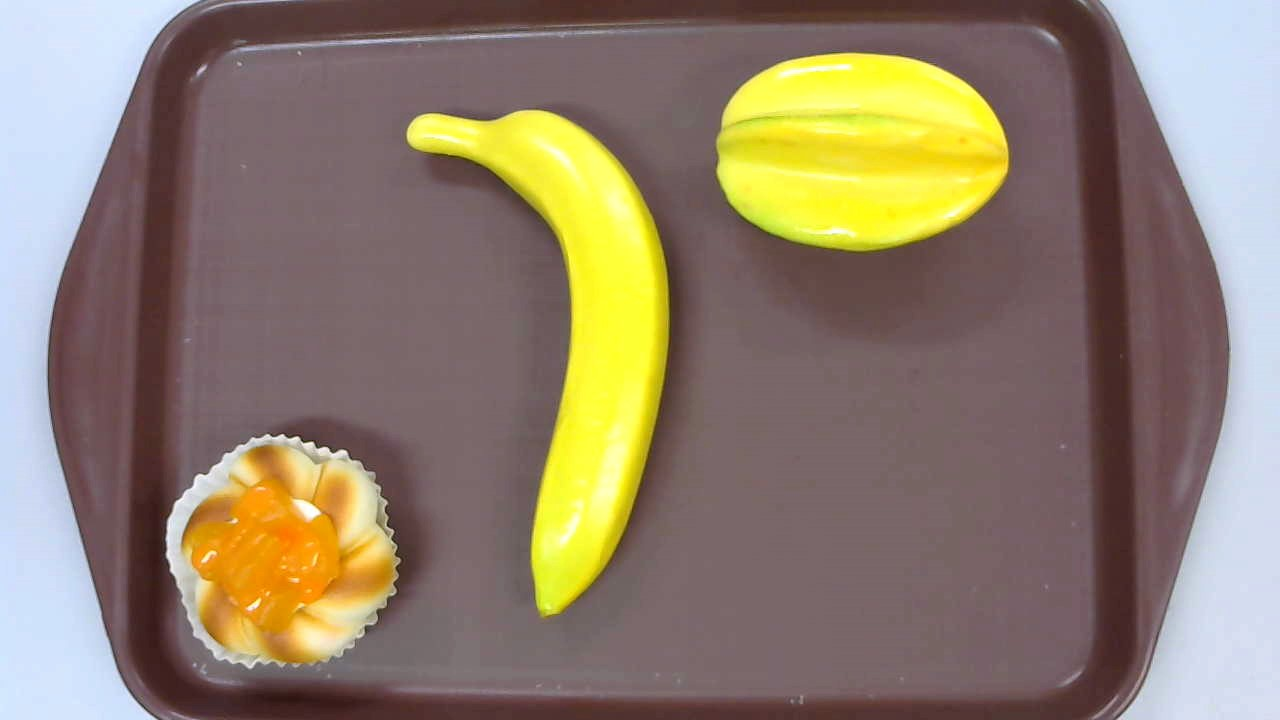banana: (406, 109, 670, 618)
mango tart: (165, 434, 402, 670)
star fruit: (713, 52, 1009, 253)
